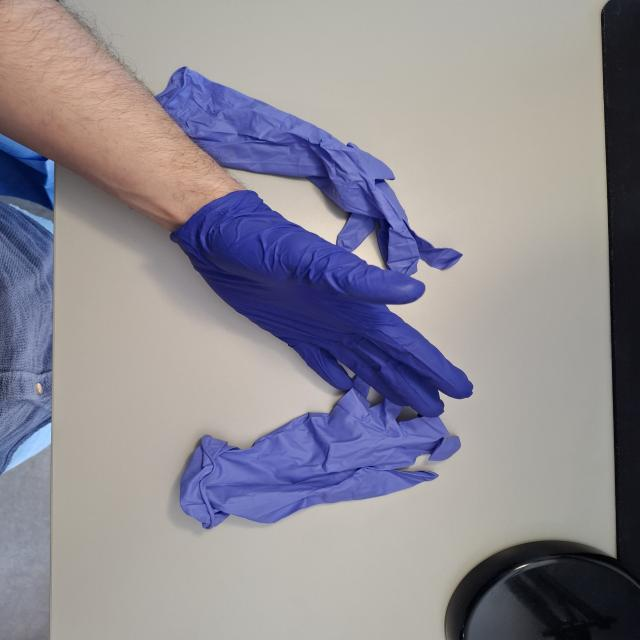glove_on: (172, 187, 476, 421)
